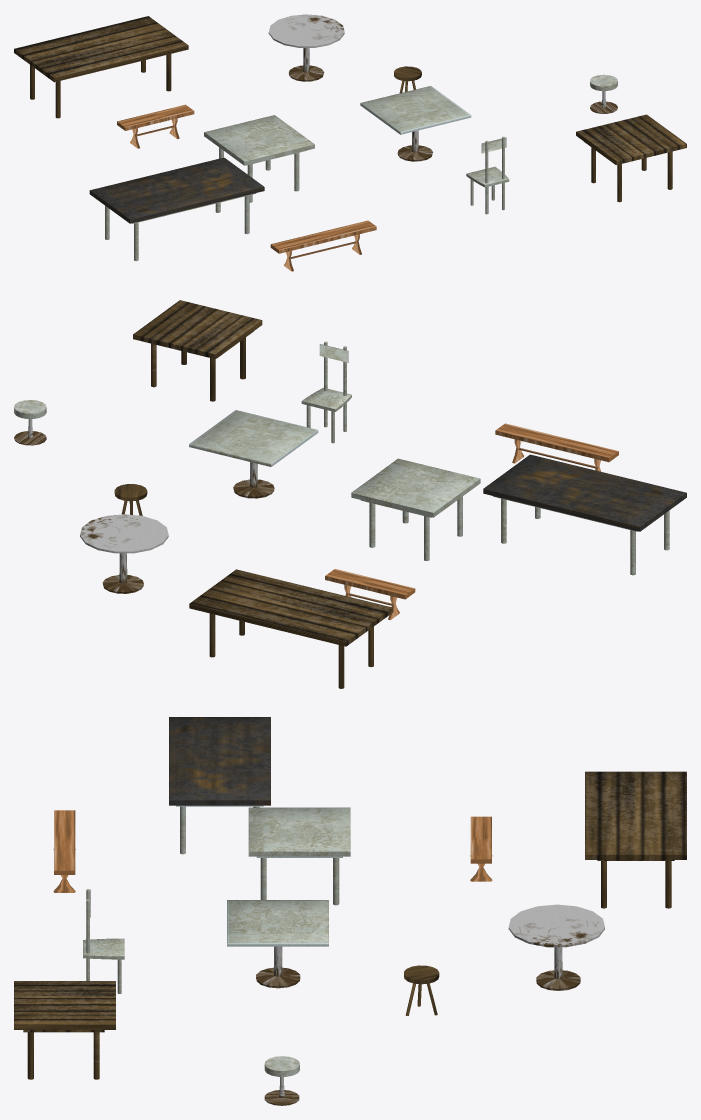
Rendered from Tables_Chairs.obj.
3 views of the same model, one above another, from view 1: azimuth 30°, elevation 25°; view 2: azimuth 150°, elevation 25°; view 3: azimuth 270°, elevation 25° (orthographic). The views are drawn at different scales.
Parts seen in each view (by area): view 1: cube3, cube, cube1, cube4, cube2, cylinder10, cube13, cube16, cylinder9, cylinder49, cube11; view 2: cube, cube3, cube4, cube1, cube2, cylinder10, cube13, cube16, cylinder9, cylinder49, cube11; view 3: cube, cube3, cube4, cube1, cube2, cylinder10, cube13, cube16, cylinder9, cylinder49, cube11, cylinder20.
Boxes of the visible parts, <box> form: cube3: <box>89,157,264,223</box>; cube: <box>14,16,188,82</box>; cube1: <box>576,114,686,164</box>; cube4: <box>204,115,314,165</box>; cube2: <box>360,86,471,134</box>; cylinder10: <box>268,14,344,47</box>; cube13: <box>270,220,376,253</box>; cube16: <box>117,104,194,130</box>; cylinder9: <box>288,48,324,81</box>; cylinder49: <box>397,130,432,161</box>; cube11: <box>466,166,509,187</box>; cube: <box>189,569,393,646</box>; cube3: <box>483,454,686,531</box>; cube4: <box>351,458,480,517</box>; cube1: <box>133,300,262,359</box>; cube2: <box>189,410,318,466</box>; cylinder10: <box>80,514,168,553</box>; cube13: <box>495,423,618,462</box>; cube16: <box>325,569,415,599</box>; cylinder9: <box>102,553,143,593</box>; cylinder49: <box>233,462,274,498</box>; cube11: <box>301,387,351,411</box>; cube: <box>585,771,686,859</box>; cube3: <box>169,717,270,805</box>; cube4: <box>248,807,350,856</box>; cube1: <box>14,981,115,1029</box>; cube2: <box>227,900,328,946</box>; cylinder10: <box>508,904,604,947</box>; cube13: <box>54,810,75,874</box>; cube16: <box>470,816,491,863</box>; cylinder9: <box>536,947,580,990</box>; cylinder49: <box>256,946,300,988</box>; cube11: <box>83,938,124,959</box>; cylinder20: <box>264,1056,299,1076</box>.
Bounding box in the file's own units: 16.03 × 2.08 × 13.88.
